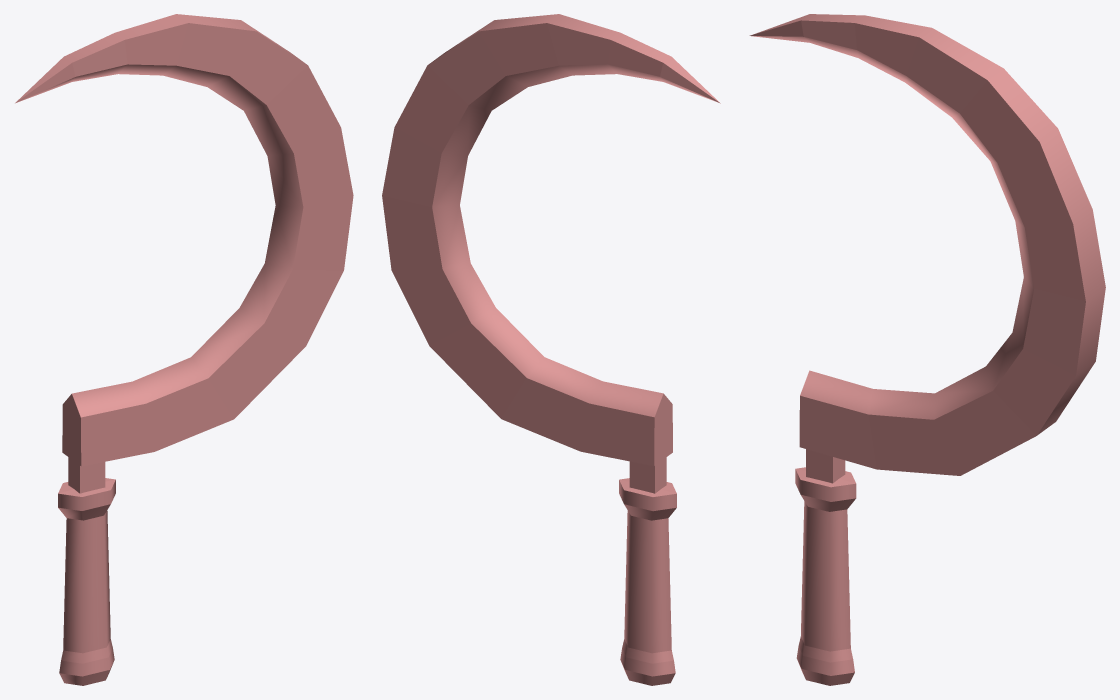
File: LianDao.fbx
3 views of the same model, side by side, from view 1: azimuth 30°, elevation 25°; view 2: azimuth 150°, elevation 25°; view 3: azimuth 330°, elevation 25° (orthographic). The views are drawn at different scales.
Visible parts, largest first — view 1: LD; view 2: LD; view 3: LD.
Boxes of the visible parts, bbox=[...] form: LD: bbox=[15, 14, 353, 685]; LD: bbox=[382, 14, 720, 685]; LD: bbox=[749, 14, 1105, 685].
Bounding box in the file's own units: 37.71 × 69.53 × 3.82.
